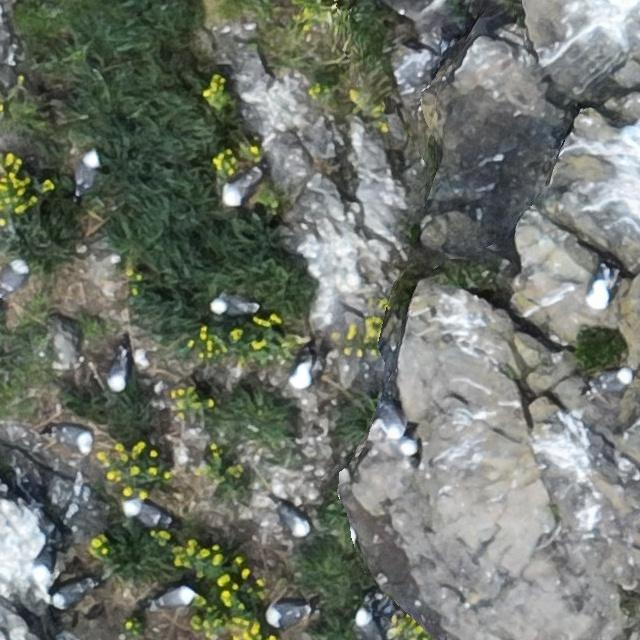umineko: (291, 349, 327, 388), (32, 536, 59, 582), (588, 269, 618, 309), (378, 397, 402, 439), (224, 173, 257, 203), (2, 260, 30, 293), (74, 153, 97, 192), (266, 604, 305, 626), (125, 504, 163, 526), (52, 582, 88, 605), (281, 508, 310, 536), (356, 608, 383, 638), (52, 427, 92, 447), (109, 354, 130, 392), (156, 586, 192, 607), (213, 297, 254, 315), (388, 435, 418, 457), (602, 370, 631, 389)
